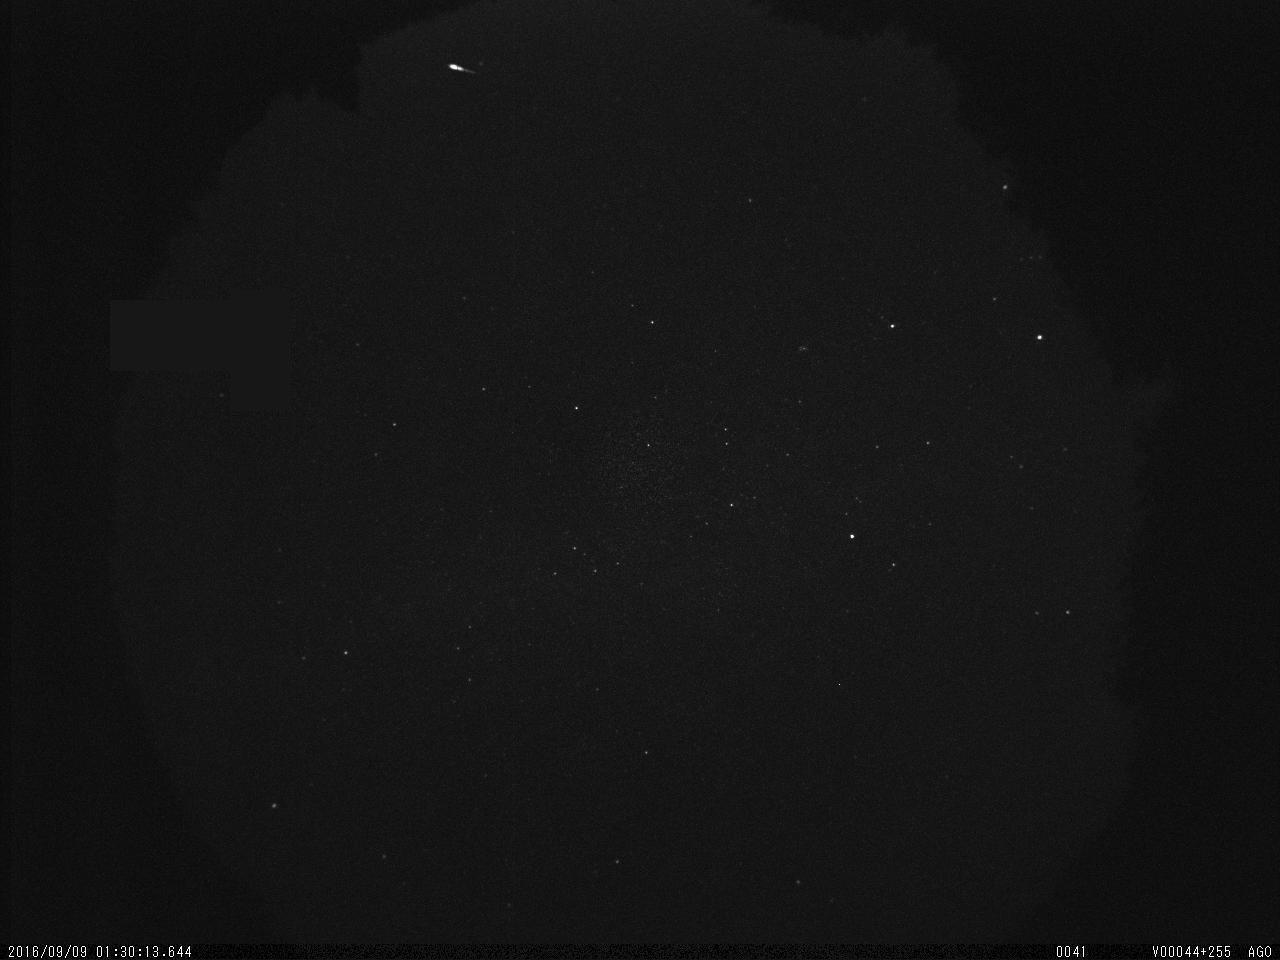Meteor: (439, 54, 486, 86)
